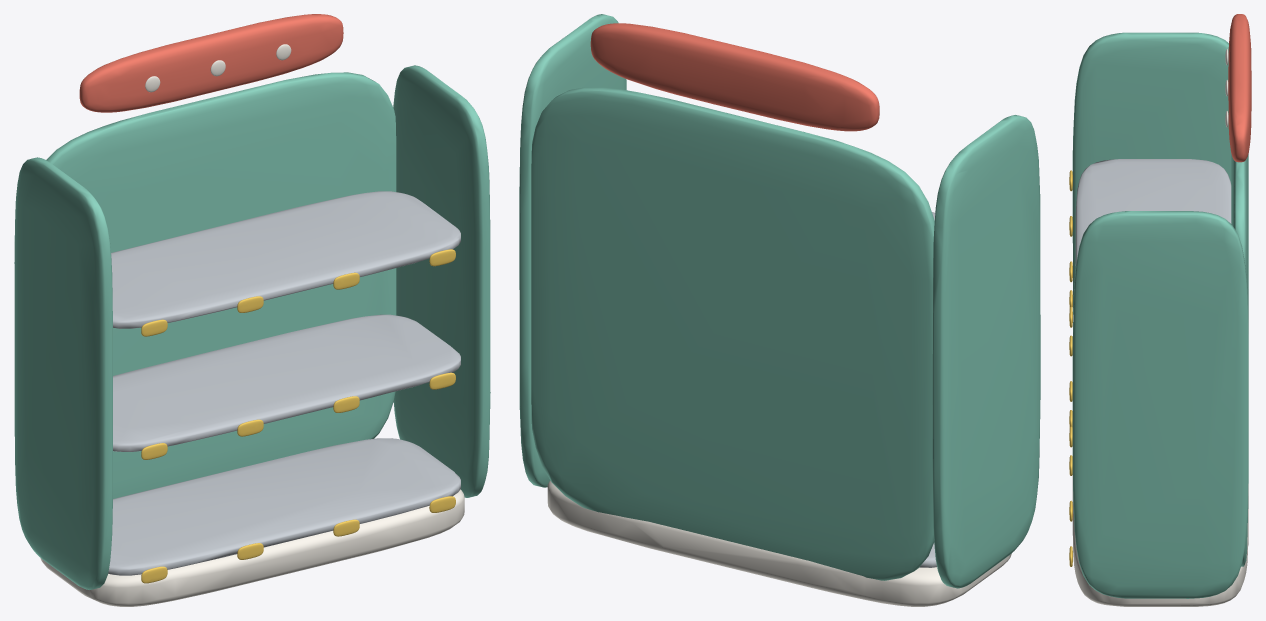
Rendered from vitrina_estante_2.glb.
3 views of the same model, side by side, from view 1: azimuth 30°, elevation 25°; view 2: azimuth 150°, elevation 25°; view 3: azimuth 270°, elevation 25° (orthographic). The views are drawn at different scales.
Parts seen in each view (by area): view 1: panel, costado, costado.001, repisa.003, repisa.005, repisa.004, letrero.002, base.001; view 2: panel, costado, letrero.002, base.001, costado.001; view 3: costado.001, costado, repisa.005, letrero.002, base.001, panel.
Boxes of the visible parts, x1,y1,x2,y2 form: panel: (46,72,396,498); costado: (14,157,112,589); costado.001: (393,65,490,497); repisa.003: (108,438,460,575); repisa.005: (111,191,460,328); repisa.004: (113,314,460,451); letrero.002: (79,14,343,112); base.001: (40,489,464,606); panel: (531,87,934,580); costado: (932,115,1040,588); letrero.002: (590,23,879,131); base.001: (547,480,1011,606); costado.001: (519,14,626,487); costado.001: (1072,211,1248,598); costado: (1072,32,1248,314); repisa.005: (1075,159,1231,265); letrero.002: (1228,14,1251,162); base.001: (1072,475,1248,606); panel: (1231,154,1248,566).
Size of the model in its own units: 1.5 by 1.75 by 0.6205.
